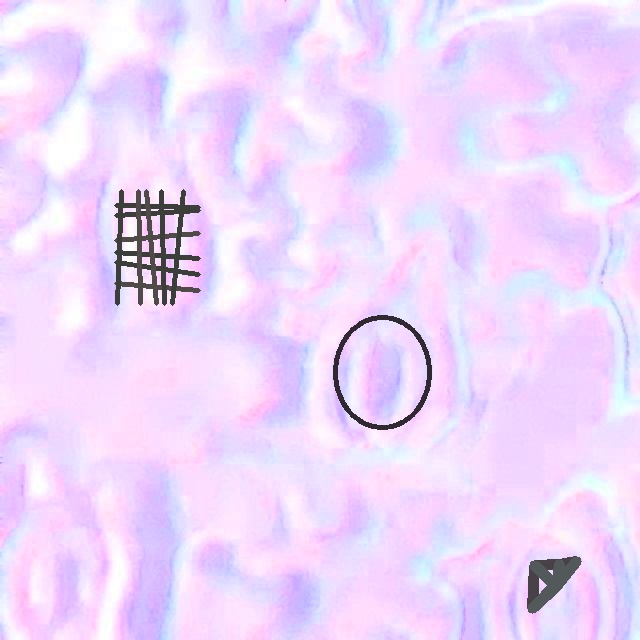close: (530, 559, 581, 613)
open: (331, 314, 433, 430), (114, 189, 200, 305)
